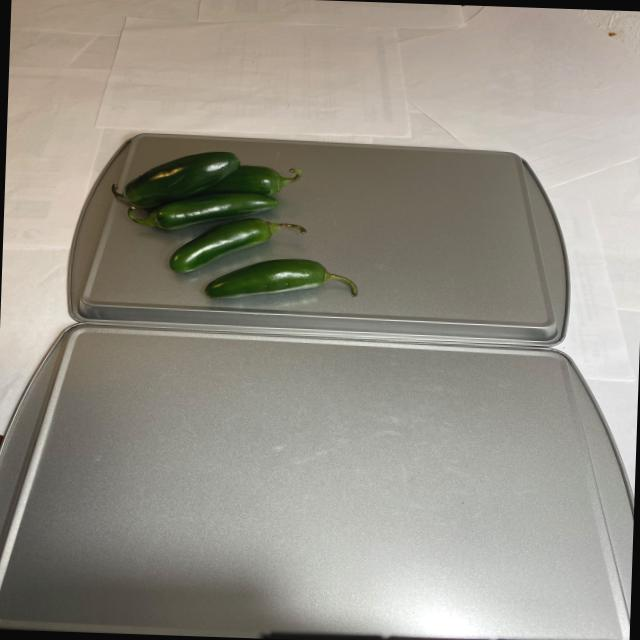chilli: (105, 146, 362, 312)
